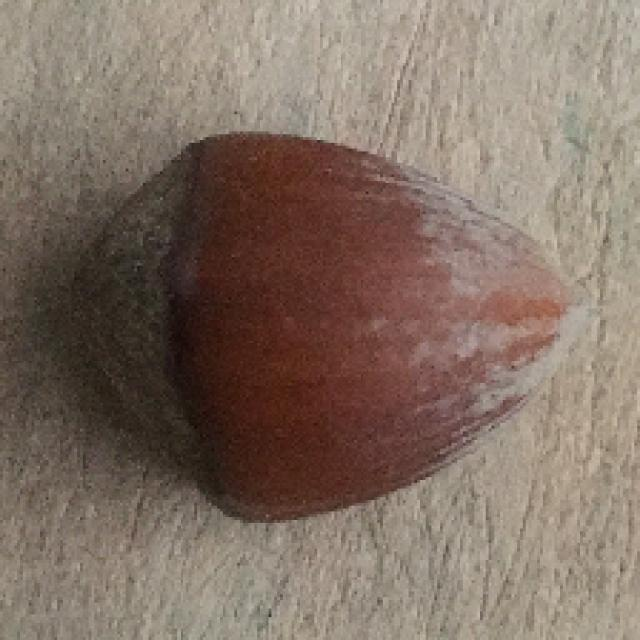qualityHazelnut: (77, 131, 582, 517)
